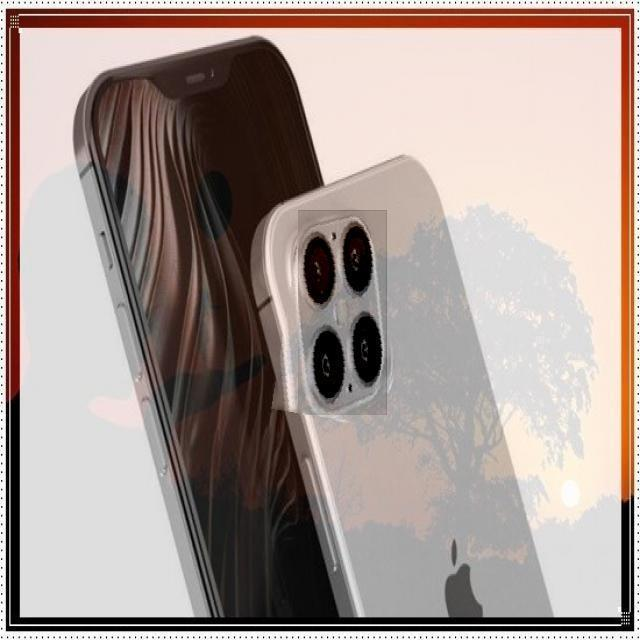Mobile: (77, 28, 337, 630), (256, 143, 561, 626)
